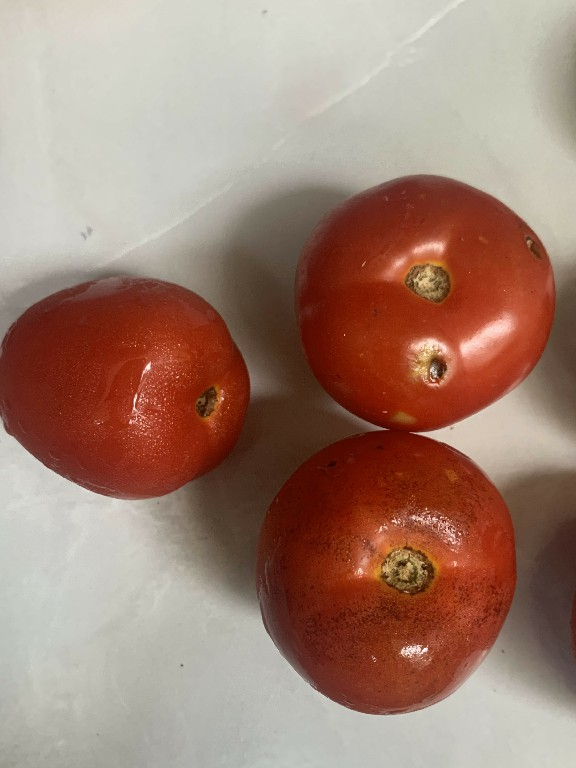NG: (238, 420, 530, 732), (280, 166, 564, 438)
OK: (1, 265, 260, 513)
